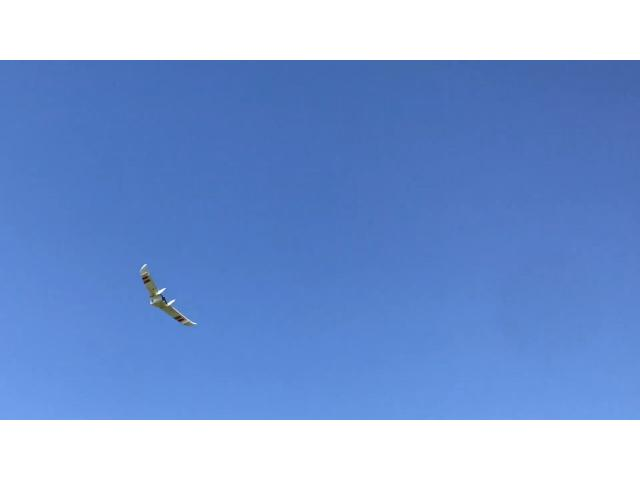Anti-Drone: (114, 245, 216, 344)
